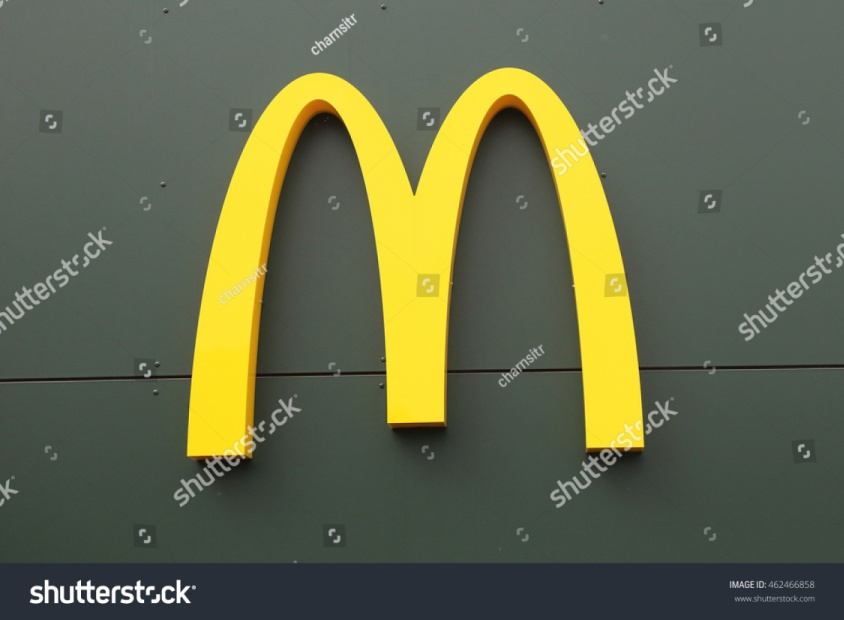mcdonalds: (166, 48, 684, 476)
